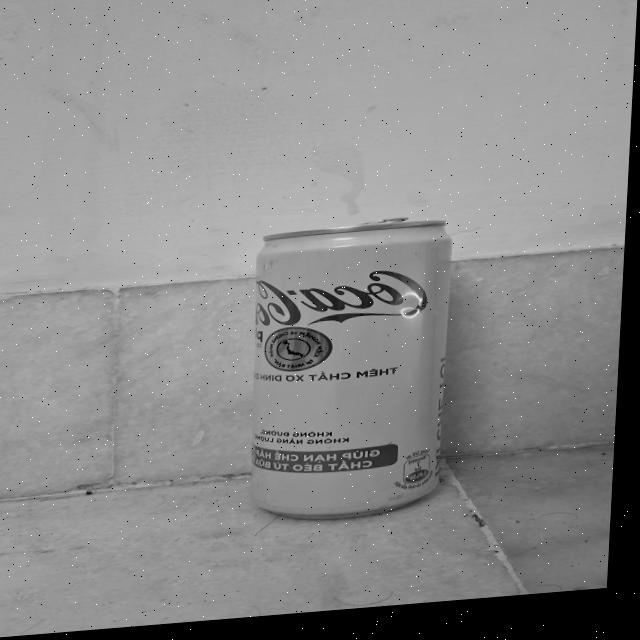Coca Cola Plus: (220, 215, 476, 546)
